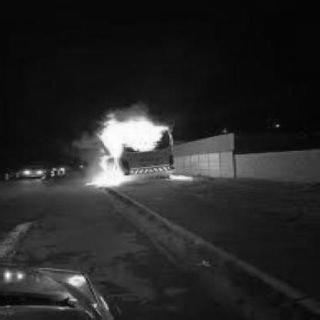Fire: (170, 170, 190, 181)
other: (60, 270, 87, 292)
